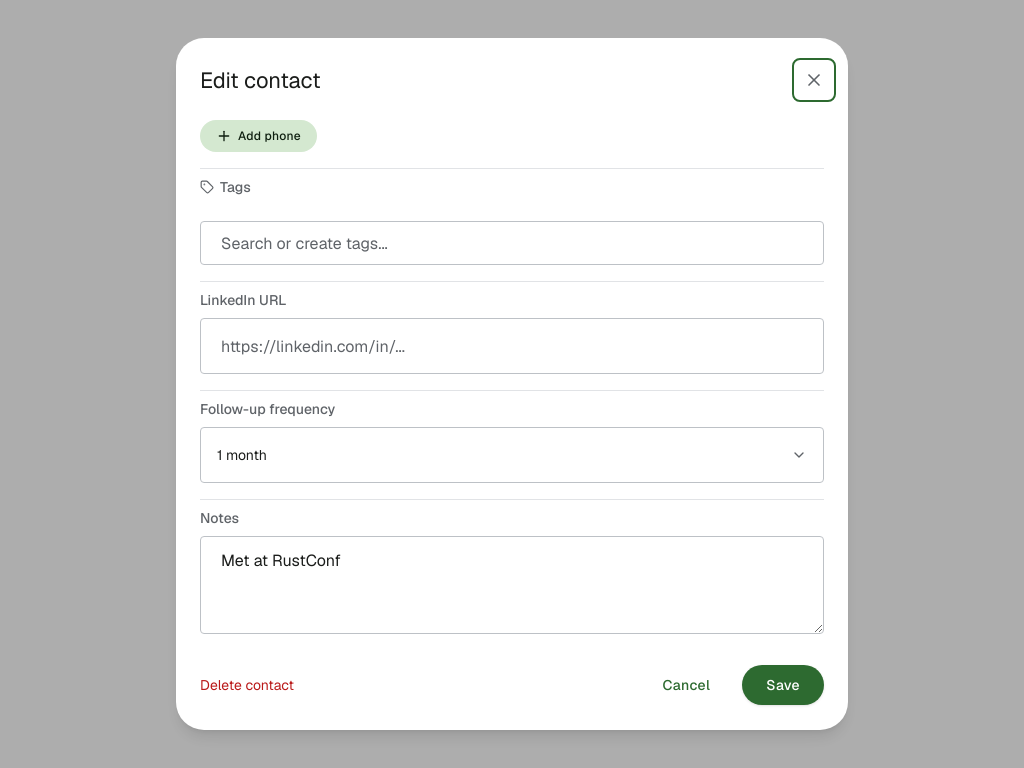
Test case: Edit contact unsaved-changes guard › warns once a field has actually been edited
The width and height of the screenshot is (1024, 768).
(page scrolled)
Replace the text in the text box with placeholder "Anything worth remembering..." with "Met at RustConf, follow up": (512, 585) [200,536,824,634]
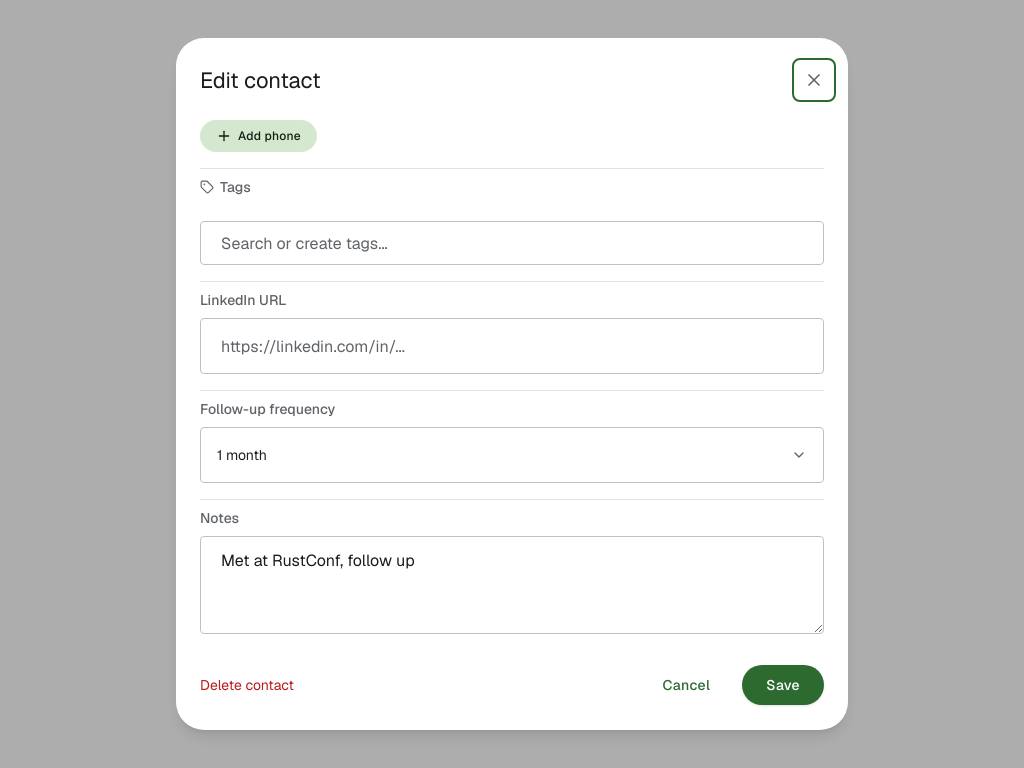
Press Escape
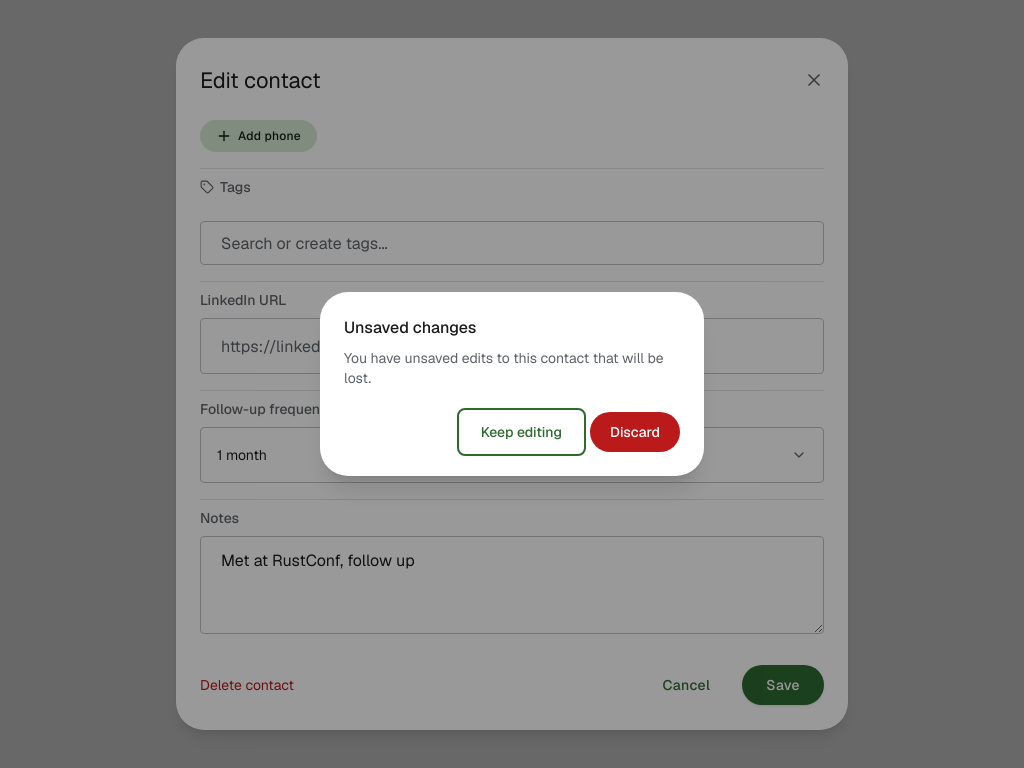
Expected: the dialog that starts with "Unsaved changes" is shown, [320,292,704,476]
